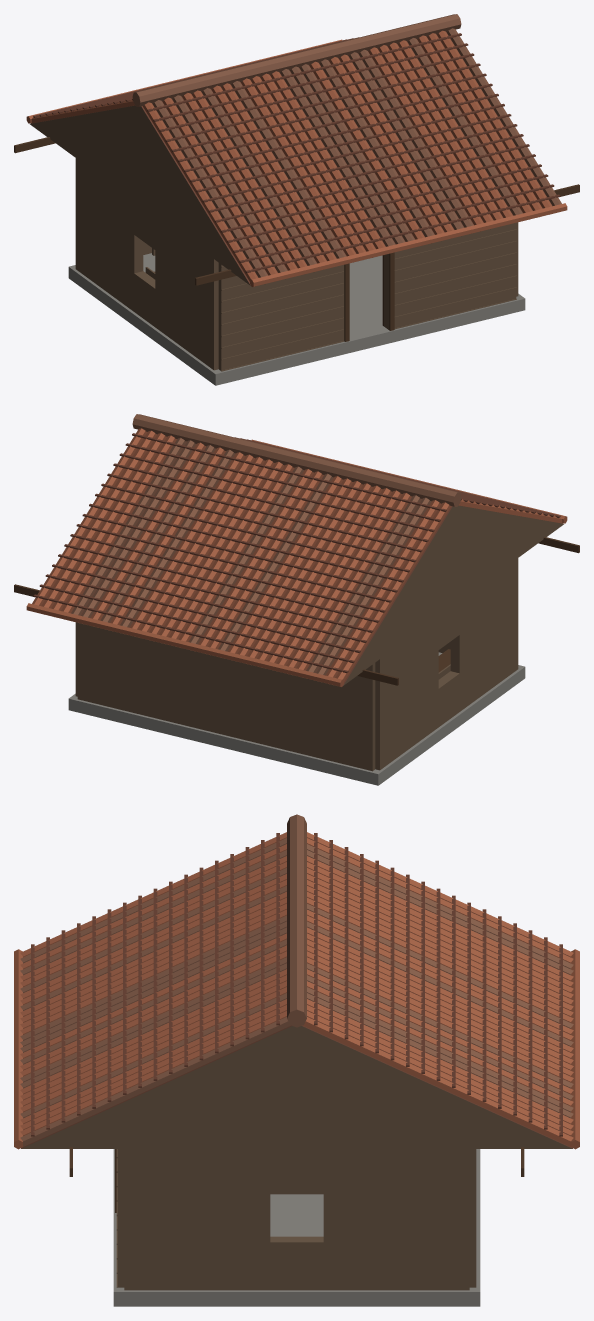
File: SM_Kulube_1.fbx
3 views of the same model, one above another, from view 1: azimuth 30°, elevation 25°; view 2: azimuth 150°, elevation 25°; view 3: azimuth 270°, elevation 25° (orthographic). The views are drawn at different scales.
Visible parts, largest first — view 1: Kulube_1; view 2: Kulube_1; view 3: Kulube_1.
Part boxes in pixels (x1,y1,x2,y2): Kulube_1: (14,14,579,385); Kulube_1: (14,414,579,785); Kulube_1: (14,814,579,1306).
Size of the model in its own units: 1040 by 624 by 1066.
